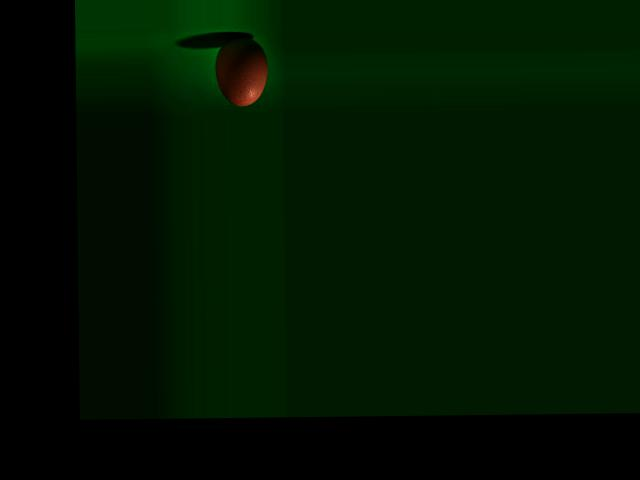egg: (214, 36, 268, 105)
